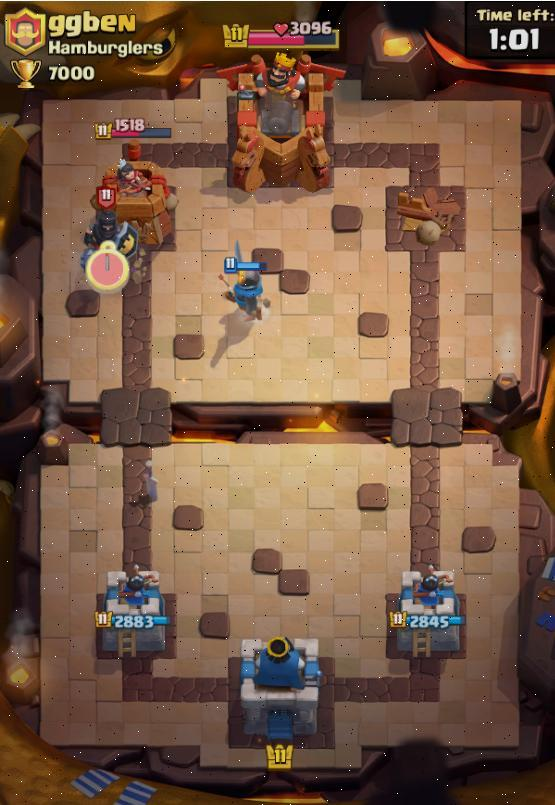EDarkPrince: (81, 210, 139, 271)
EKingTower: (228, 54, 333, 193)
EnemyPrincessTower: (87, 159, 176, 247)
OKnight: (219, 240, 269, 319)
OwnKingTower: (239, 636, 331, 746)
OwnPrincessTower: (387, 566, 464, 657), (96, 565, 170, 656)
TowerDown: (386, 187, 464, 251)
